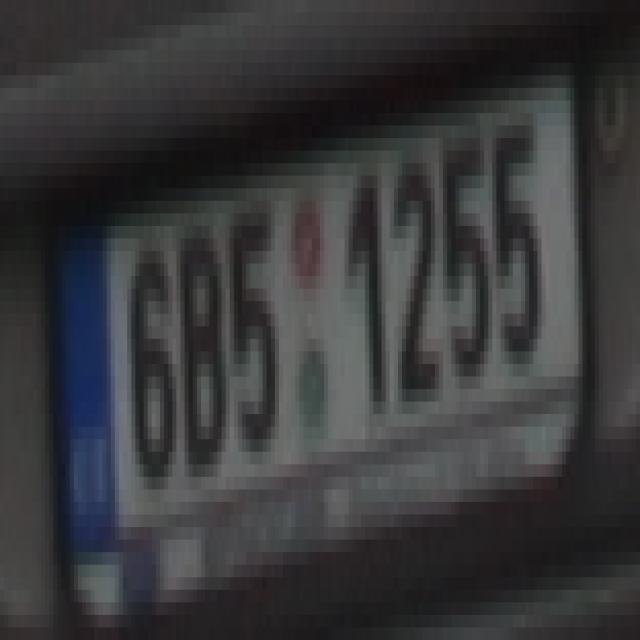1: (340, 150, 390, 414)
2: (390, 150, 439, 402)
5: (222, 176, 284, 464), (492, 88, 554, 364), (439, 113, 488, 402)
6: (119, 226, 172, 477)
B: (176, 188, 230, 464)
